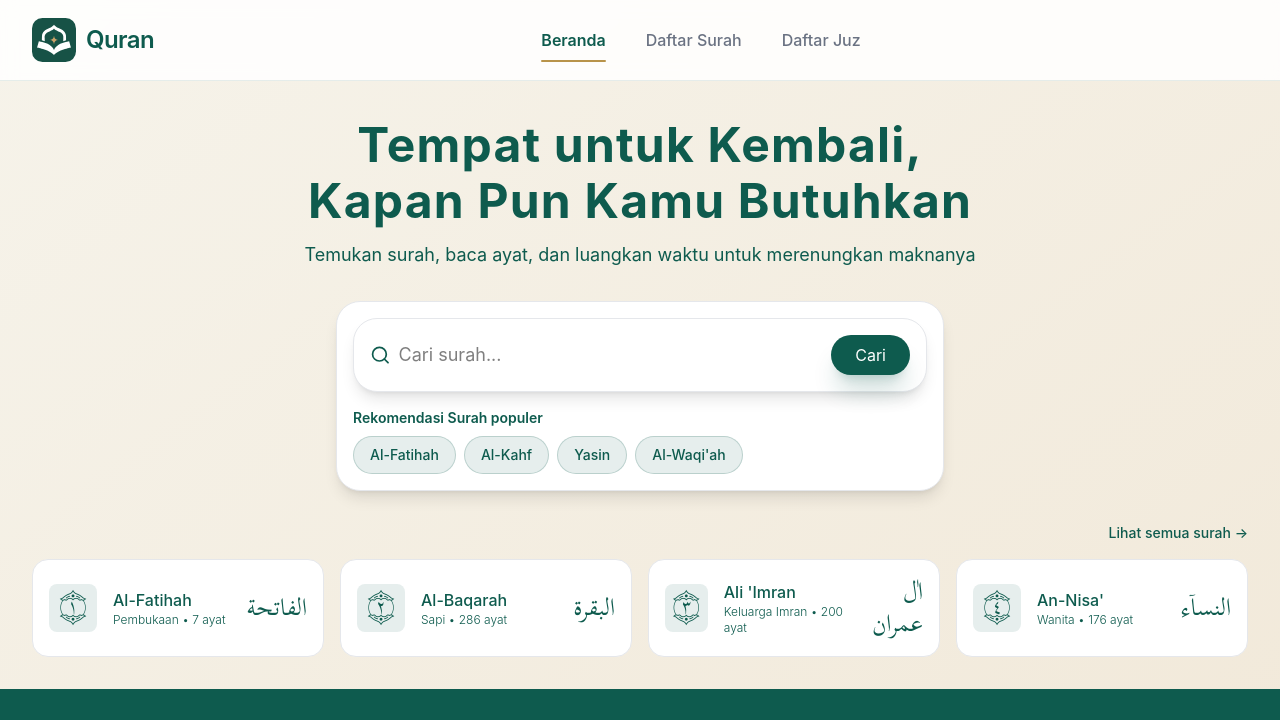
Scenario: BerandaView › rekomendasi surah populer › klik badge mengisi kolom pencarian
Click the button "Yasin" at (592, 455), box [557, 436, 627, 474]
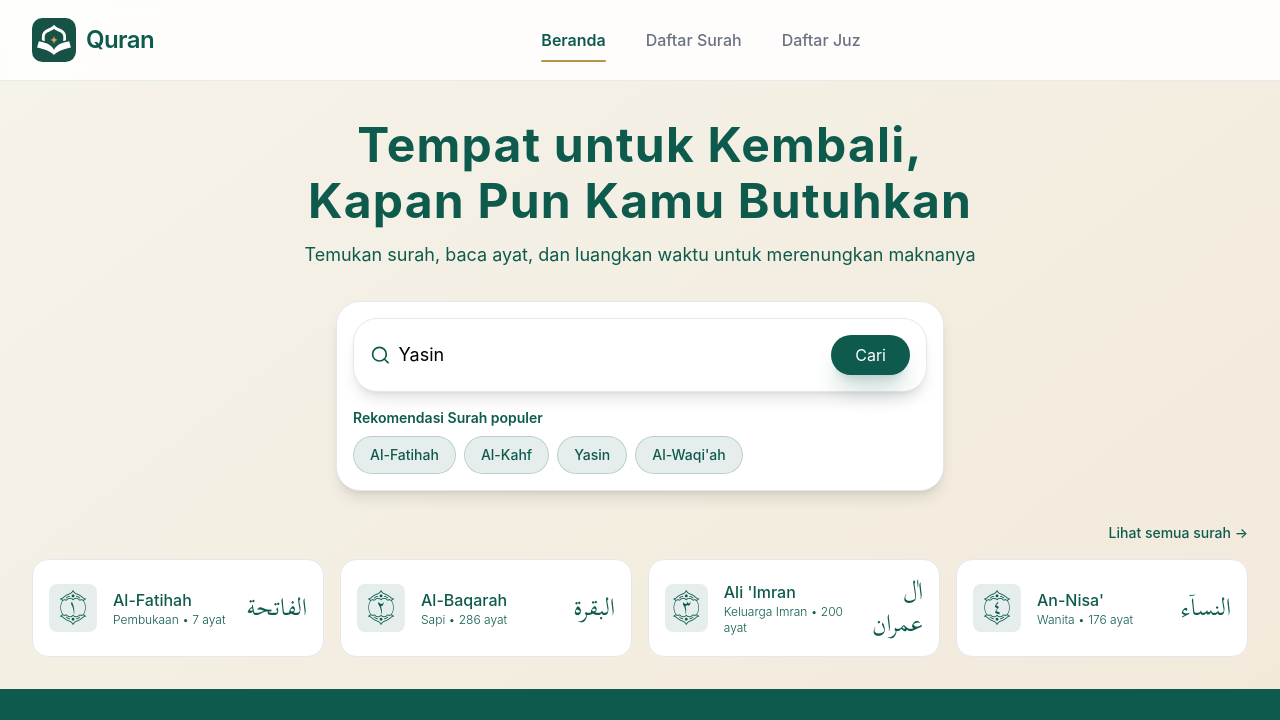
Now the field with id "search-bar" holds "Yasin", box [399, 341, 815, 369]
